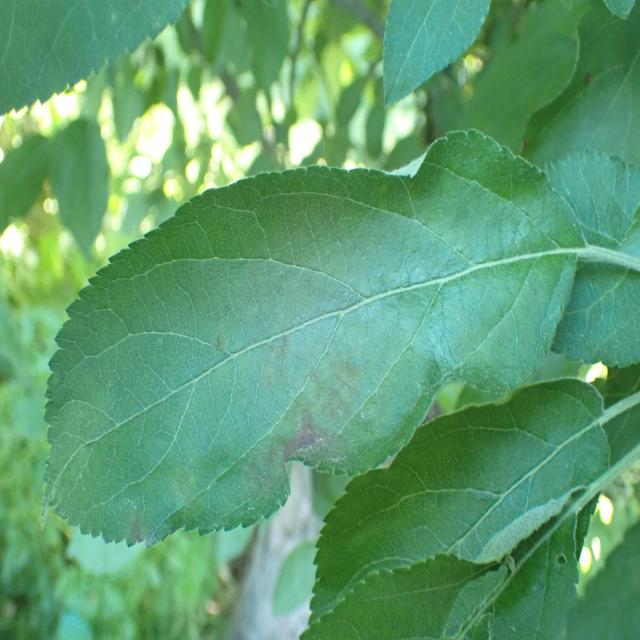scab: (180, 253, 510, 511)
